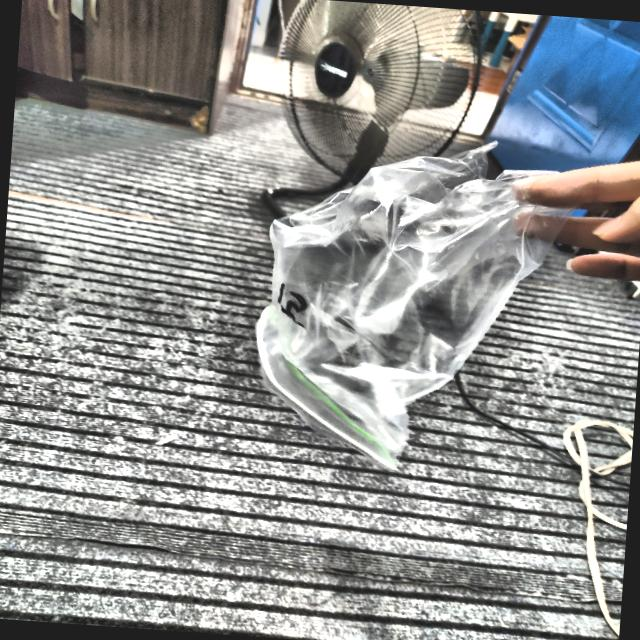plastic bag: (257, 142, 570, 469)
